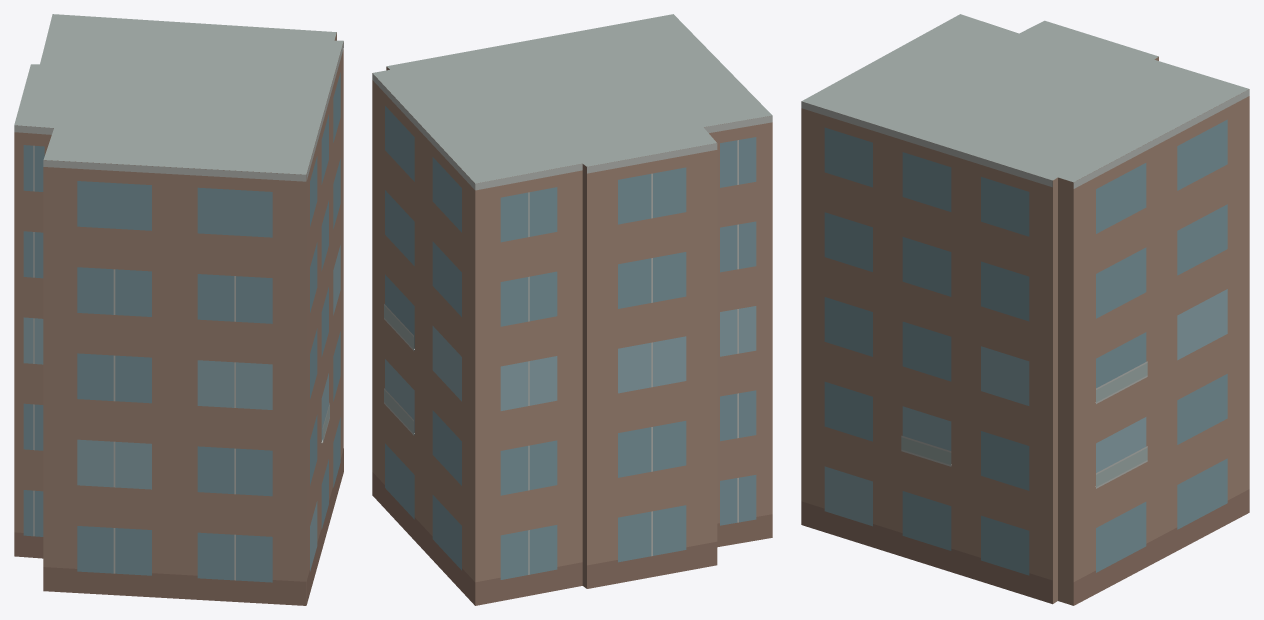
Rendered from survey-upis-33043636.glb.
The picture shows the model from 3 angles, left to right: view 1: azimuth 30°, elevation 25°; view 2: azimuth 150°, elevation 25°; view 3: azimuth 270°, elevation 25°; orthographic projection. The views are drawn at different scales.
Parts seen in each view (by area): view 1: survey-upis-33043636.tmp; view 2: survey-upis-33043636.tmp; view 3: survey-upis-33043636.tmp.
Part boxes in pixels (<box>): survey-upis-33043636.tmp: <box>14,14,343,605</box>; survey-upis-33043636.tmp: <box>372,14,772,605</box>; survey-upis-33043636.tmp: <box>801,14,1249,605</box>.
Bounding box in the file's own units: 12.87 × 15.1 × 14.49.
